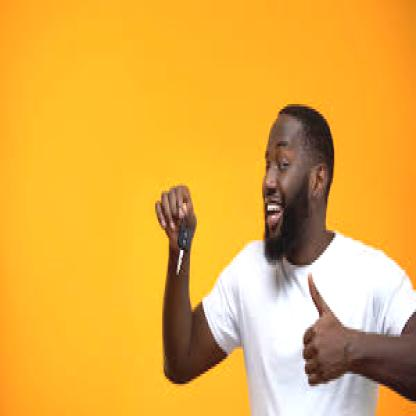Thumbs up: (290, 264, 350, 383)
